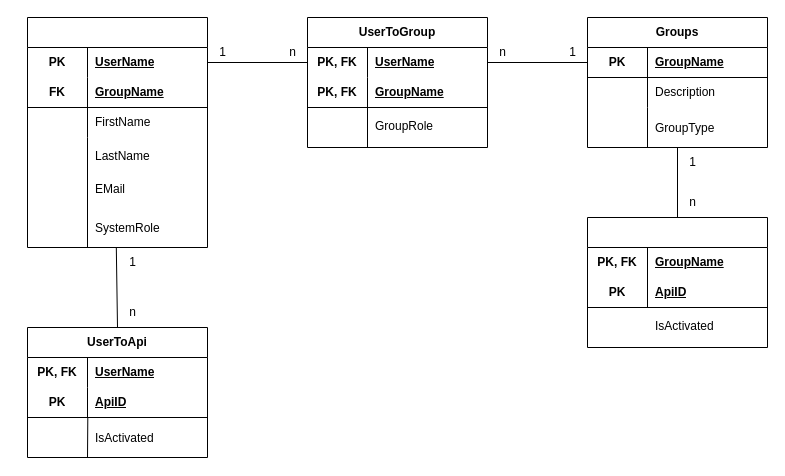
Some shapes in this 785 by 476 pixel diagram are drawn without their labels. Here are the shapes that lost their labels. From the top down, the box of each, then its label:
(26, 16, 208, 248): Users
(586, 216, 768, 348): GroupToApi
